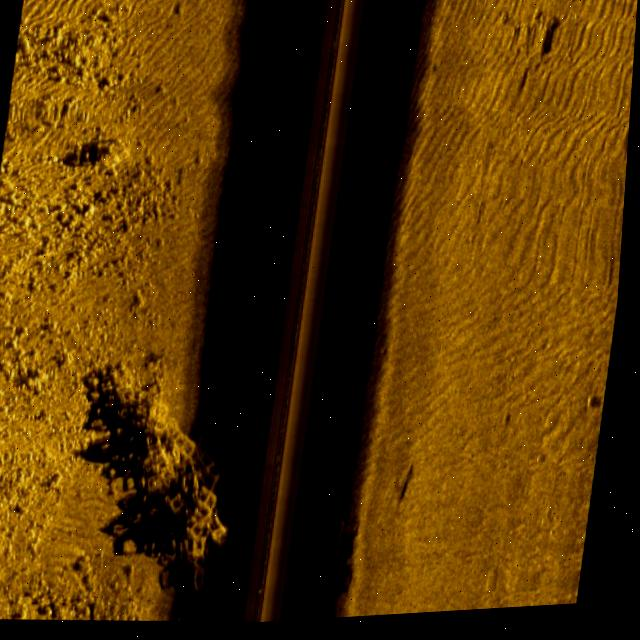artificial reef: (57, 360, 267, 603), (308, 516, 373, 609)
